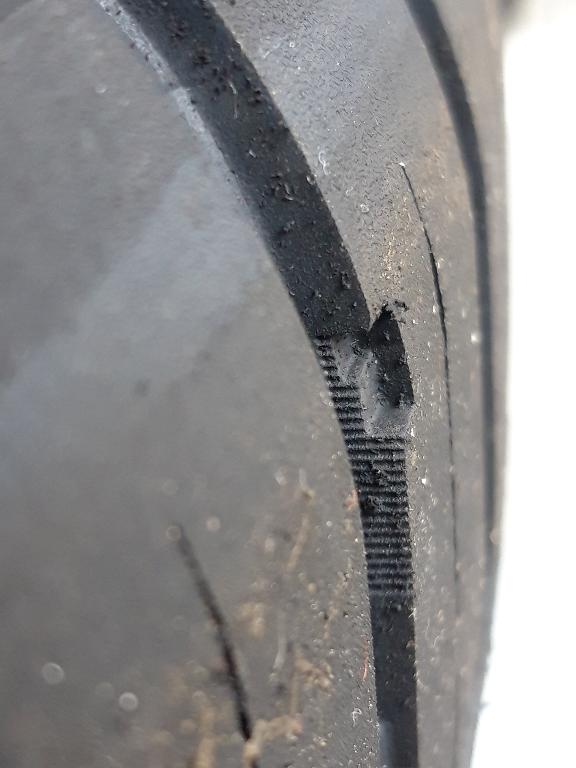temoin:50: (306, 298, 429, 484)
